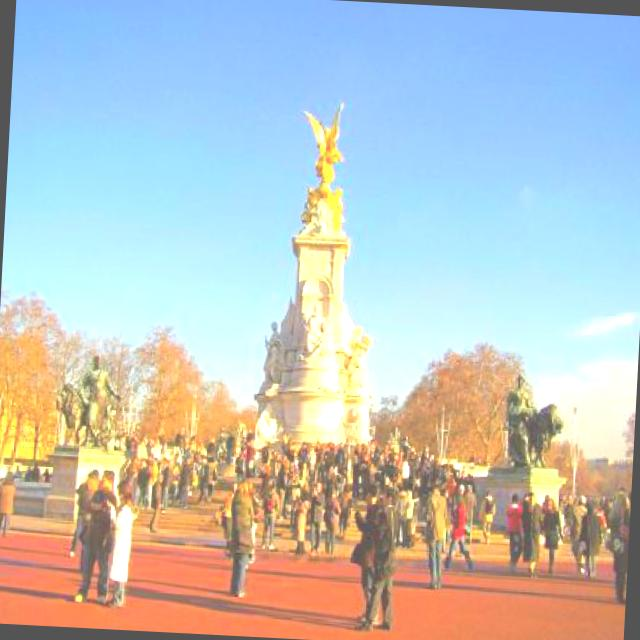Person: (0, 409, 633, 636), (348, 503, 399, 634), (74, 354, 126, 448), (499, 369, 538, 466), (298, 304, 336, 362), (262, 323, 285, 382), (349, 327, 370, 372)
